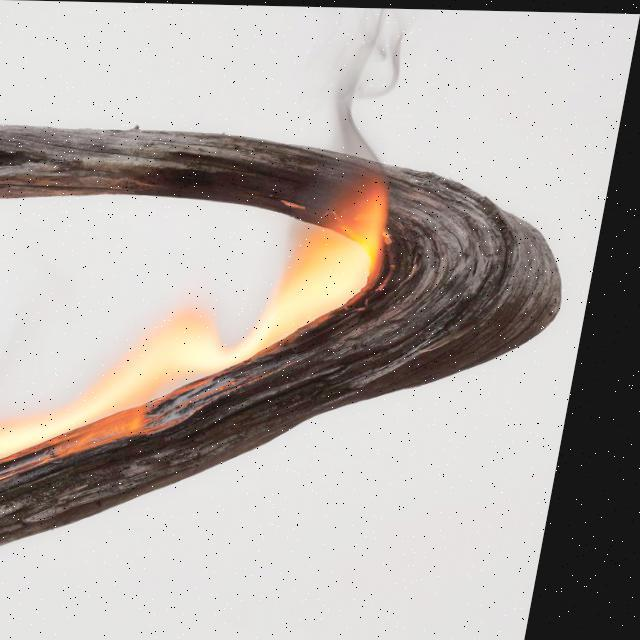Fire: (0, 162, 426, 566)
